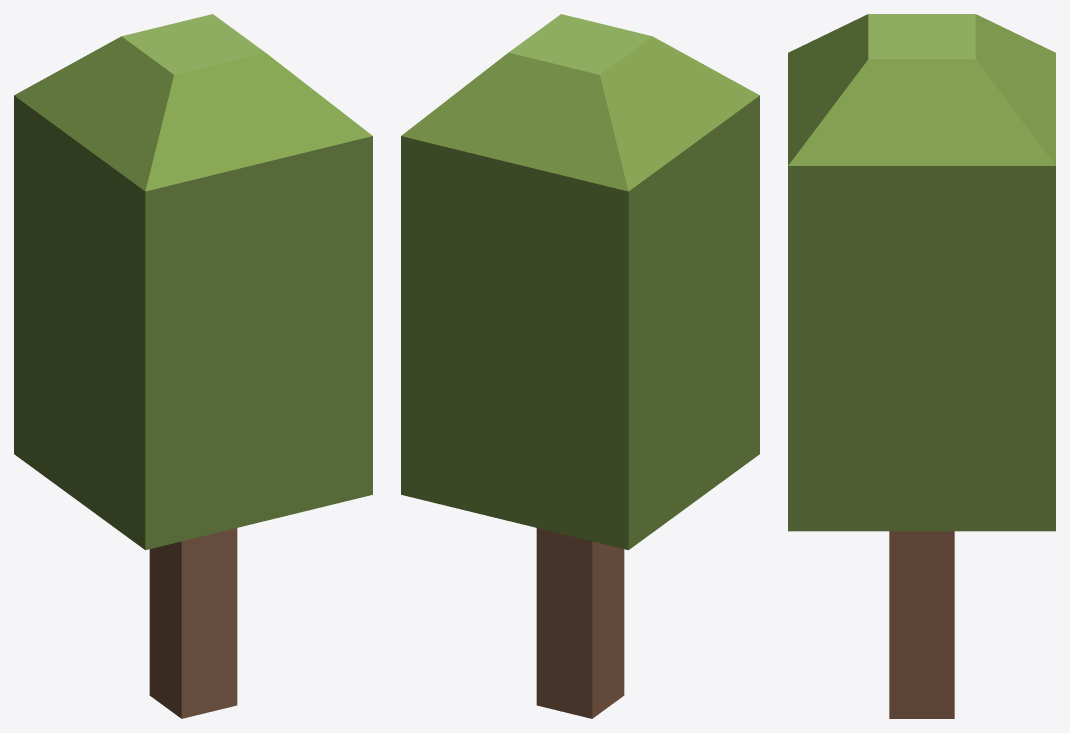
The model's file is voxel_tree_2.fbx.
3 renders of one model, left to right at view 1: azimuth 30°, elevation 25°; view 2: azimuth 150°, elevation 25°; view 3: azimuth 270°, elevation 25°, orthographic.
Visible parts, largest first — view 1: voxel_tree_2; view 2: voxel_tree_2; view 3: voxel_tree_2.
Boxes of the visible parts, x1,y1,x2,y2 form: voxel_tree_2: (14,14,372,718); voxel_tree_2: (401,14,759,718); voxel_tree_2: (788,14,1055,718).
Bounding box in the file's own units: 184 × 507 × 184.
